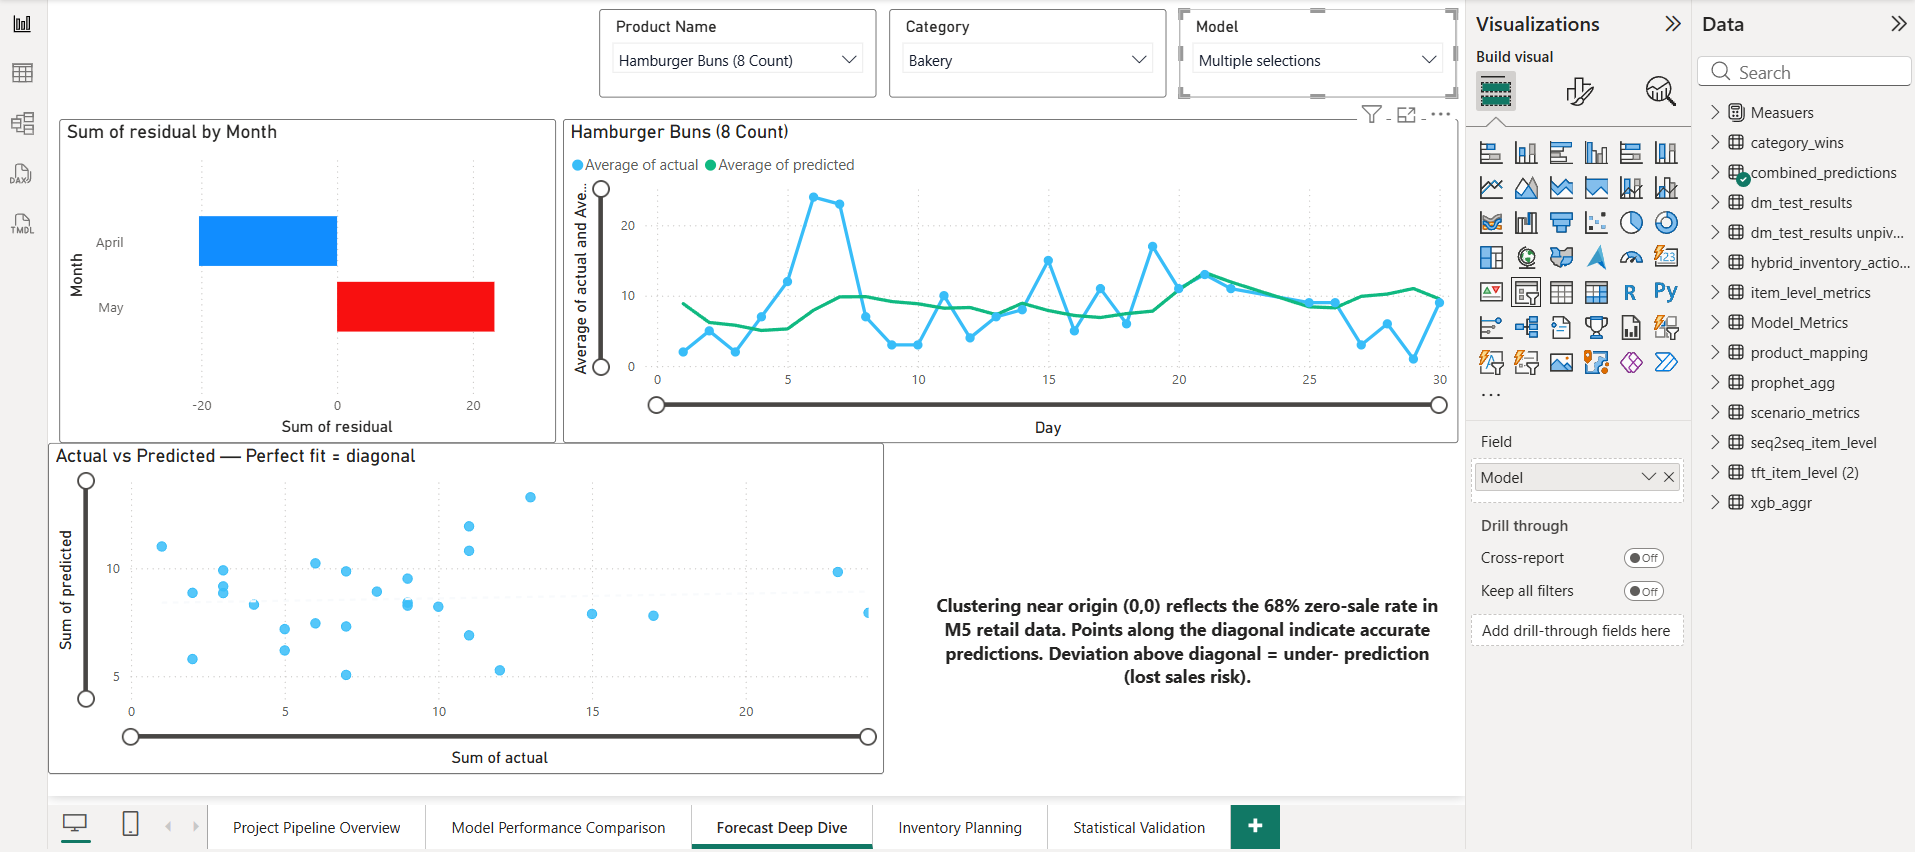

The dashboard page shown, as its layout file describes it:
{"tool":"powerbi","page":{"name":"Forecast Deep Dive","canvas":[1280,720],"ordinal":2},"visuals":[{"type":"slicer","fields":{"Values":["product_mapping.Product Name"]},"box":[498.5,8.8,250,80],"z":0},{"type":"slicer","fields":{"Values":["product_mapping.Category"]},"box":[760.4,8.8,250,80],"z":1000},{"type":"slicer","fields":{"Values":["combined_predictions.model"]},"box":[1022.3,8.8,250,80],"z":2000},{"type":"lineChart","fields":{"Category":["combined_predictions.date.Variation.Date Hierarchy.Year","combined_predictions.date.Variation.Date Hierarchy.Quarter","combined_predictions.date.Variation.Date Hierarchy.Month","combined_predictions.date.Variation.Date Hierarchy.Day"],"Y":["Avg(combined_predictions.actual)","Avg(combined_predictions.predicted)"]},"box":[465,108.4,808.8,292.5],"z":3000},{"type":"clusteredBarChart","fields":{"Category":["combined_predictions.date.Variation.Date Hierarchy.Year","combined_predictions.date.Variation.Date Hierarchy.Quarter","combined_predictions.date.Variation.Date Hierarchy.Month","combined_predictions.date.Variation.Date Hierarchy.Day"],"Y":["Sum(combined_predictions.residual)"]},"box":[10,108.4,448.8,292.5],"z":4000},{"type":"scatterChart","title":"Actual vs Predicted — Perfect fit = diagonal","fields":{"X":["Sum(combined_predictions.actual)"],"Y":["Sum(combined_predictions.predicted)"],"Category":["combined_predictions.date"]},"box":[0,400.5,755.2,299.2],"z":5000},{"type":"textbox","box":[797.5,461.2,463.8,211.2],"z":6000}]}

Visuals, with their boxes on the page's 1280x720 design canvas (x1, y1, x2, y2). These are canvas units, not pixel positions in the 1915x852 screenshot, which may show the page scaled, cropped or inside an application window:
slicer - product_mapping.Product Name: 498 9 748 89
slicer - product_mapping.Category: 760 9 1010 89
slicer - combined_predictions.model: 1022 9 1272 89
lineChart - combined_predictions.date.Variation.Date Hierarchy.Year x combined_predictions.date.Variation.Date Hierarchy.Quarter: 465 108 1274 401
clusteredBarChart - combined_predictions.date.Variation.Date Hierarchy.Year x combined_predictions.date.Variation.Date Hierarchy.Quarter: 10 108 459 401
"Actual vs Predicted — Perfect fit = diagonal" scatterChart: 0 400 755 700
textbox: 798 461 1261 672
